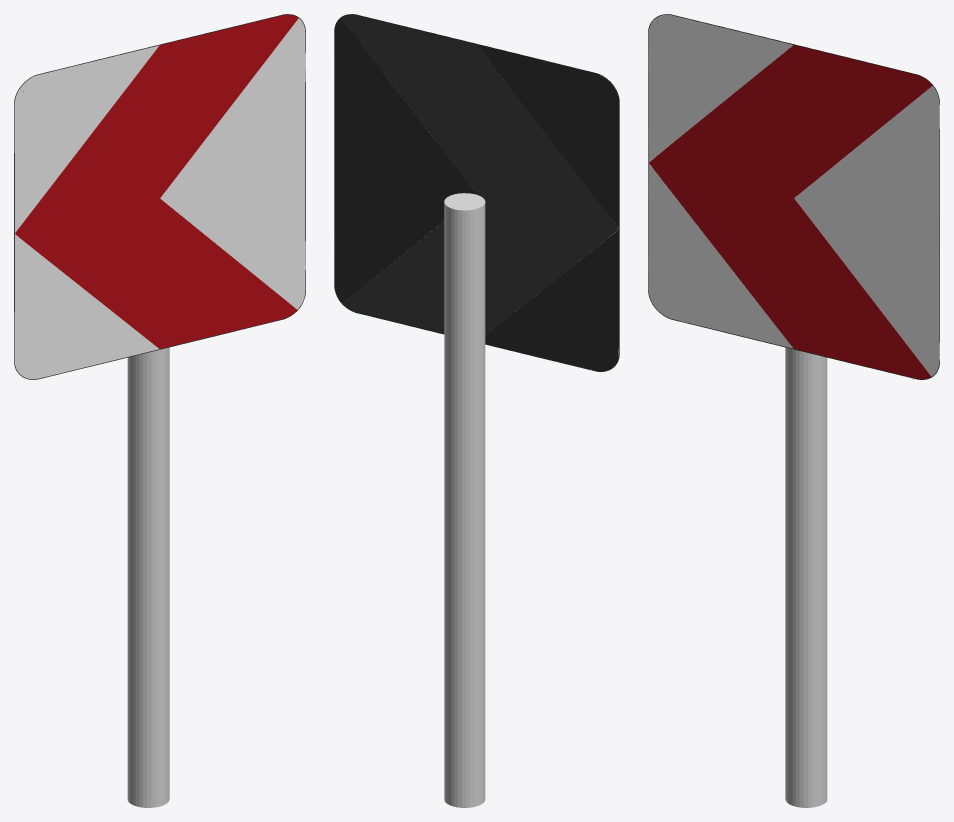
Rendered from Sharp_turn_left_short.dae.
The picture shows the model from 3 angles, left to right: view 1: azimuth 30°, elevation 25°; view 2: azimuth 150°, elevation 25°; view 3: azimuth 330°, elevation 25°; orthographic projection. The views are drawn at different scales.
Parts seen in each view (by area): view 1: path2103, Cylinder; view 2: path2103, Cylinder; view 3: path2103, Cylinder.
Part boxes in pixels (left/top/right/bottom): path2103: left=14, top=14, right=305, bottom=379; Cylinder: left=127, top=201, right=169, bottom=807; path2103: left=334, top=14, right=619, bottom=371; Cylinder: left=444, top=193, right=485, bottom=807; path2103: left=648, top=14, right=939, bottom=379; Cylinder: left=785, top=347, right=827, bottom=807.
Size of the model in its own units: 0.1 by 0.0134 by 0.2501.
